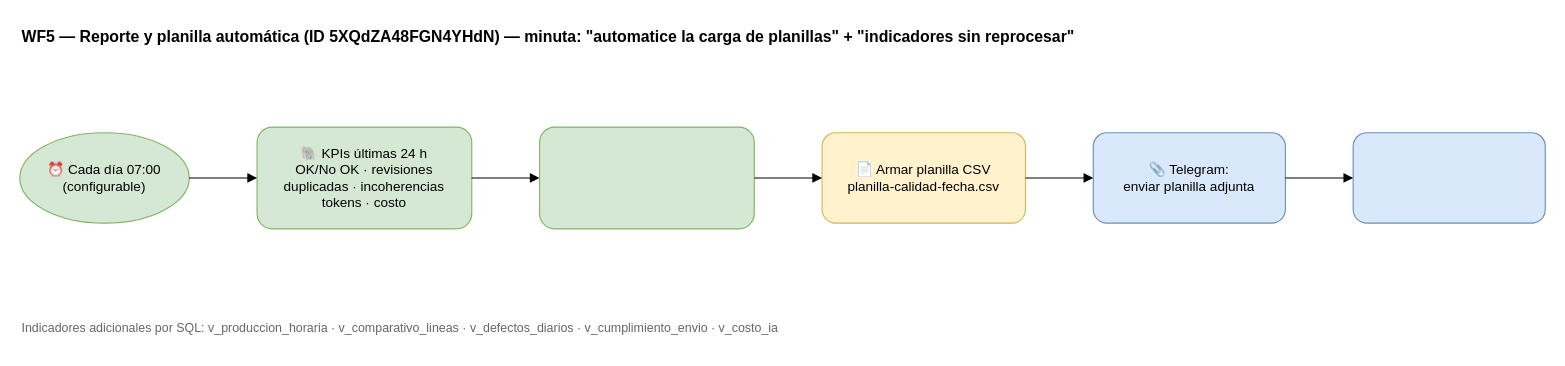
Some shapes in this 1565 by 366 pixel diagram are drawn without their labels. Each missing label, with the centre of its shape:
"🐘 Detalle desde v_evidencias_completas (una fila por evidencia)" goes at (646,177).
"📊 Telegram: resumen KPIs (HTML)" goes at (1448,177).
